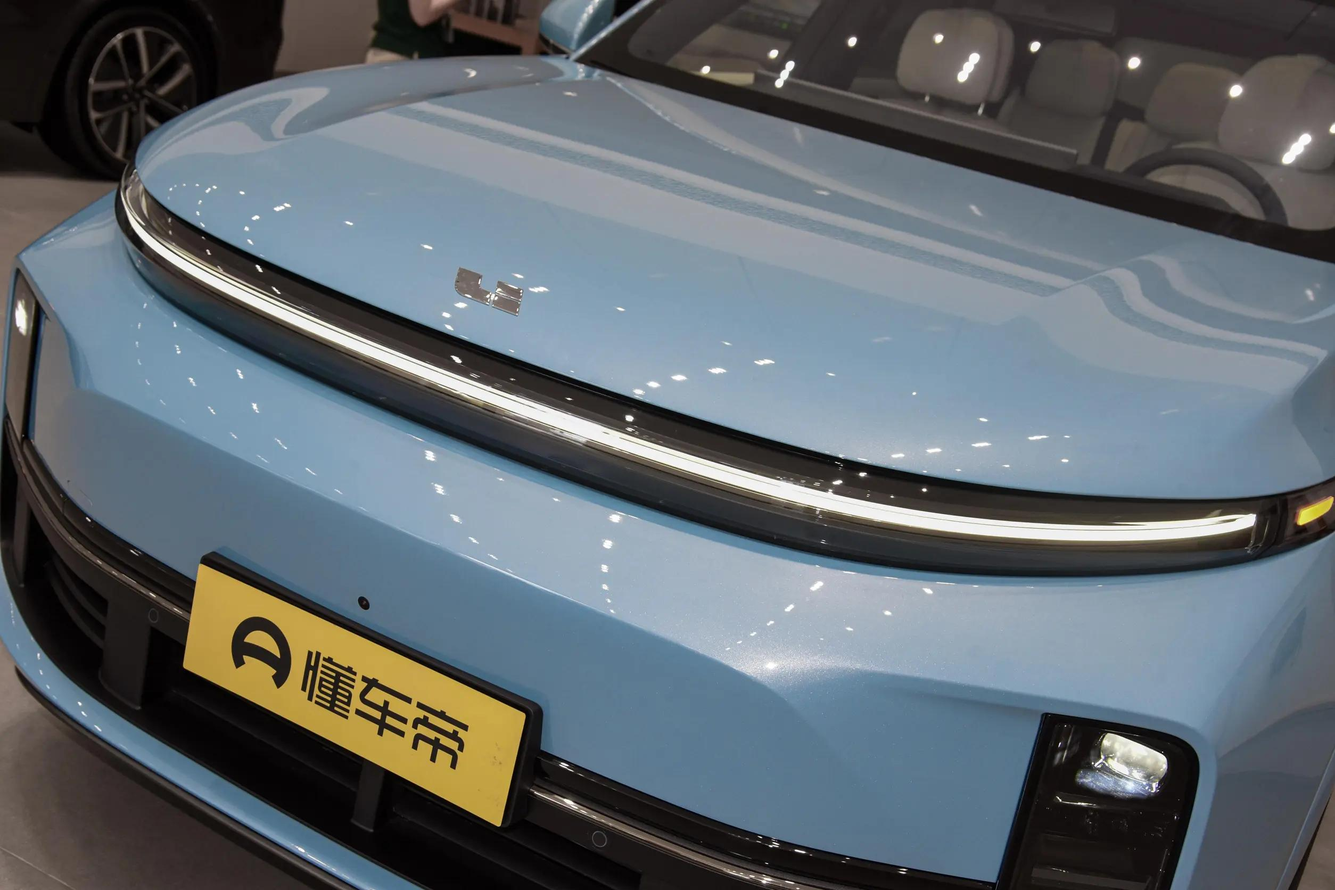Li Auto: (455, 266, 523, 318)
